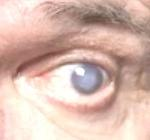eye: (70, 63, 104, 95)
